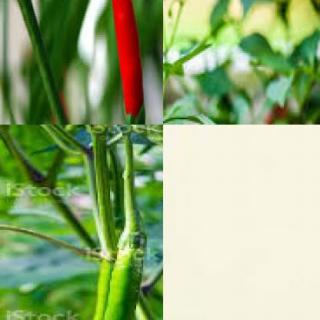green_chilli: (57, 228, 162, 319), (83, 247, 114, 319)
